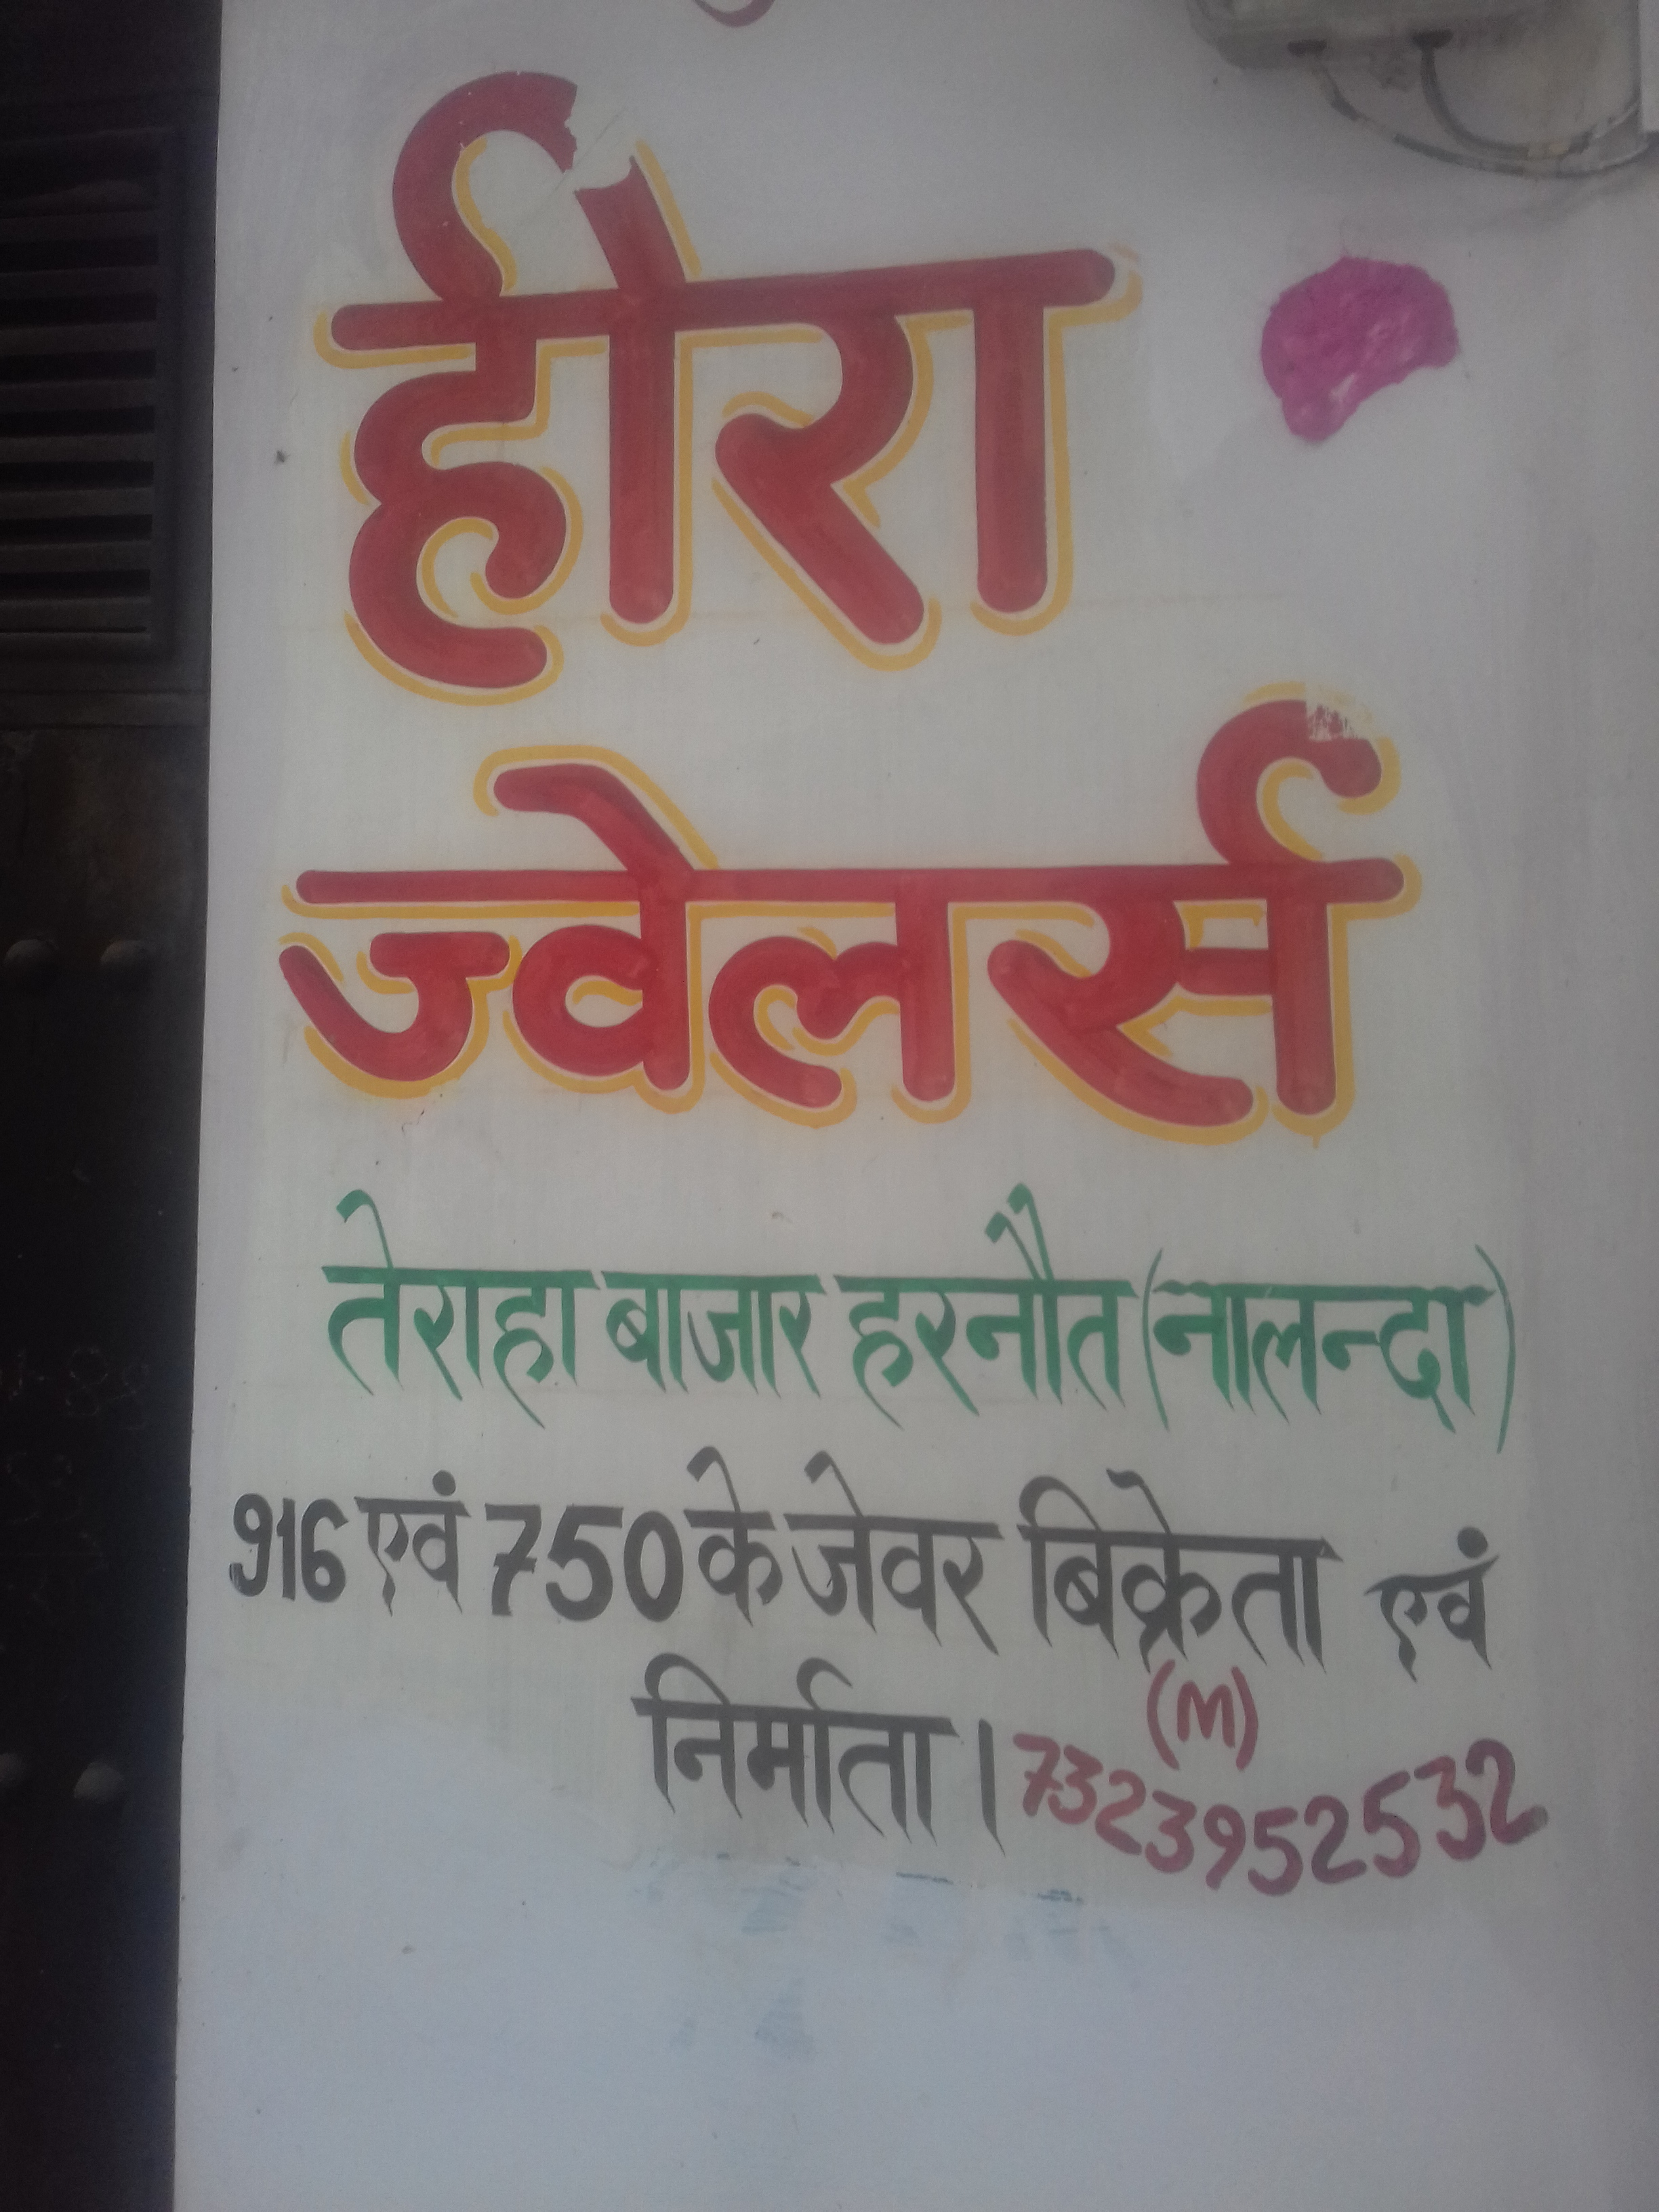text: (190, 21, 1656, 2212)
